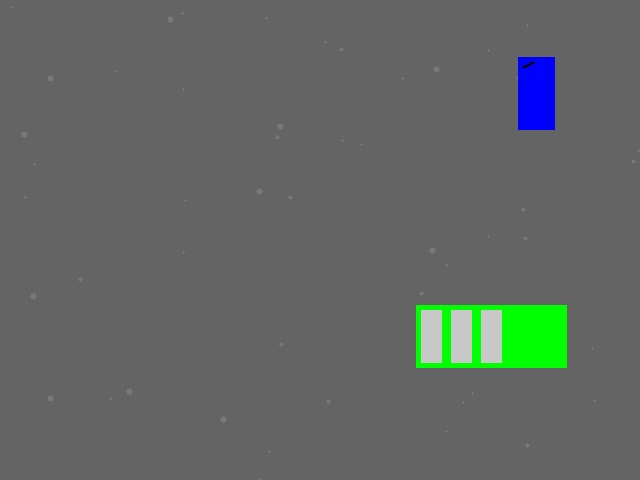bus: (416, 305, 566, 367)
motorcycle: (518, 57, 554, 129)
